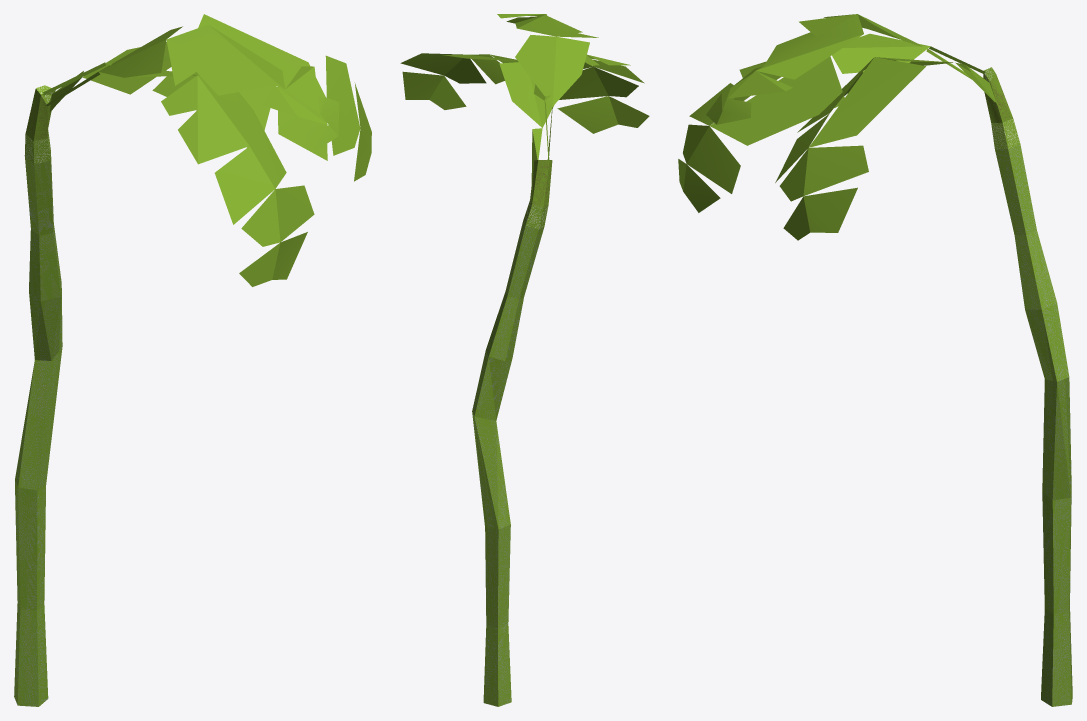
Rendered from Tree_Bamboo_06.fbx.
3 views of the same model, side by side, from view 1: azimuth 30°, elevation 25°; view 2: azimuth 150°, elevation 25°; view 3: azimuth 270°, elevation 25° (orthographic). The views are drawn at different scales.
Visible parts, largest first — view 1: Model; view 2: Model; view 3: Model.
Boxes of the visible parts, x1,y1,x2,y2 form: Model: (14, 14, 371, 706); Model: (400, 14, 649, 706); Model: (678, 14, 1072, 706).
Size of the model in its own units: 212 by 575 by 293.
